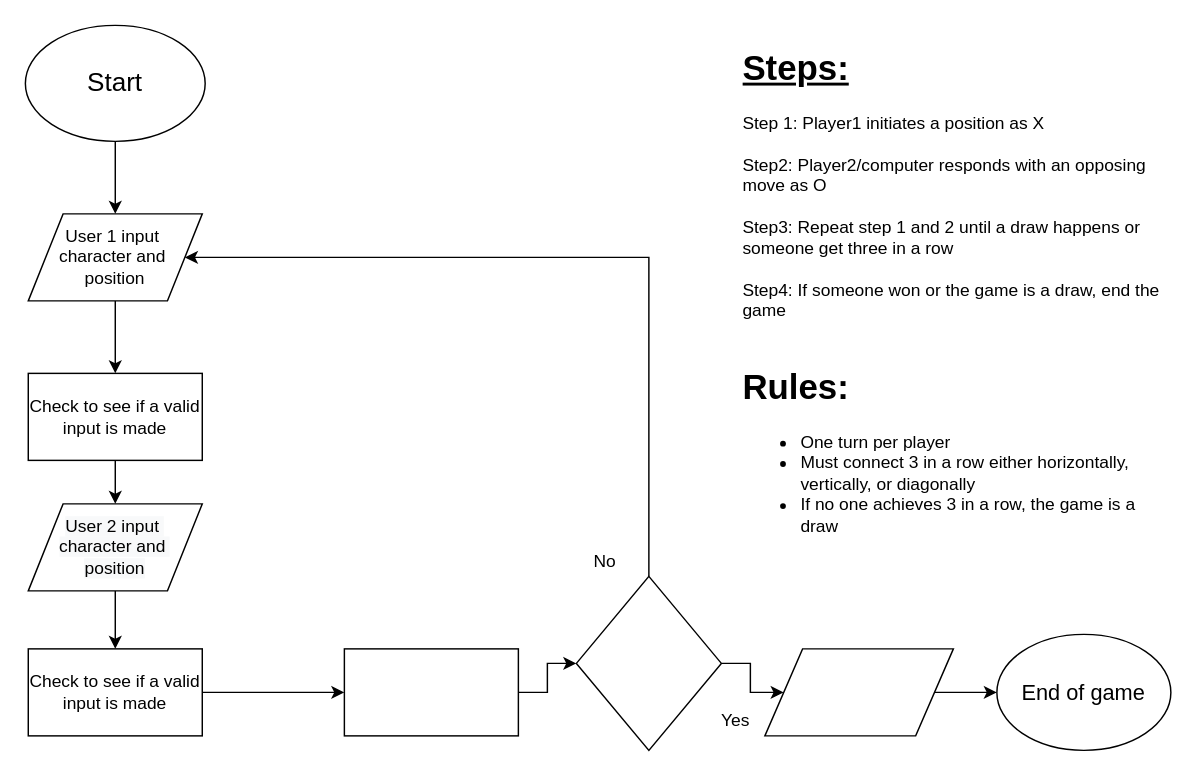
The diagram is 1196 pixels wide and 776 high, and some of its shapes have lost their labels. Each missing label, with the centre of its shape:
Check to see if there is any winning sequences or draws: [430,691]
Delcare a winner or draw game: [858,691]
If x = win or o = win or draw: [648,662]
